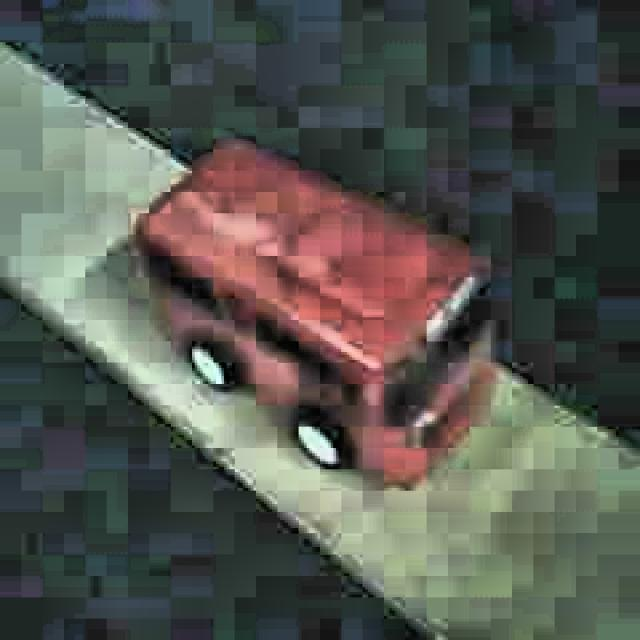bus: (135, 137, 495, 491)
